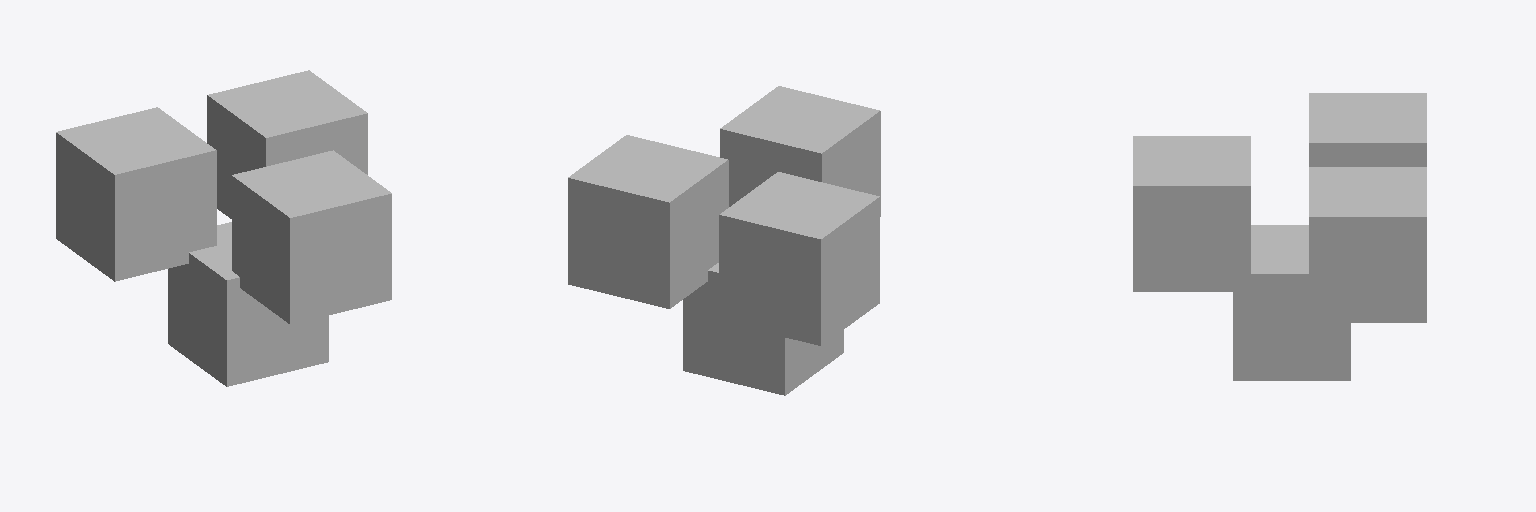
The model's file is cubes.obj.
The picture shows the model from 3 angles: view 1: azimuth 30°, elevation 25°; view 2: azimuth 150°, elevation 25°; view 3: azimuth 270°, elevation 25°; orthographic projection.
Size of the model in its own units: 249 by 190 by 250.